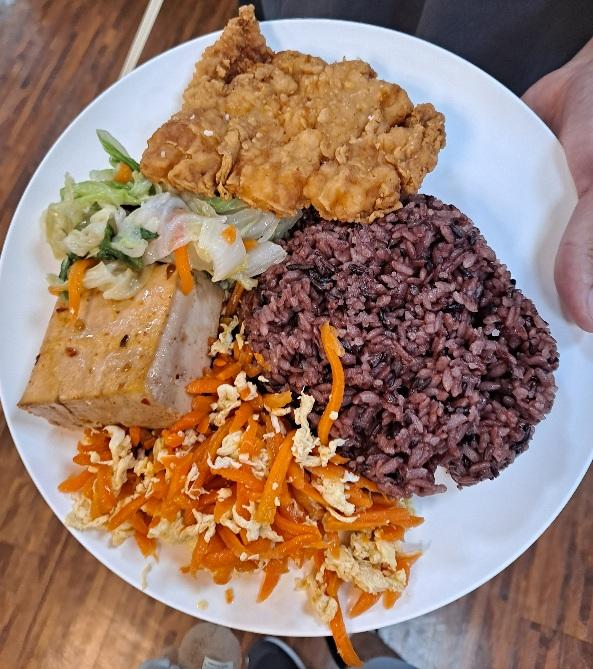big fried chicken leg: (6, 13, 593, 650)
braised fish: (253, 186, 540, 500)
braised fish fillet: (90, 373, 412, 612), (36, 255, 226, 430), (47, 163, 273, 281)
braised pork: (145, 15, 459, 215)
